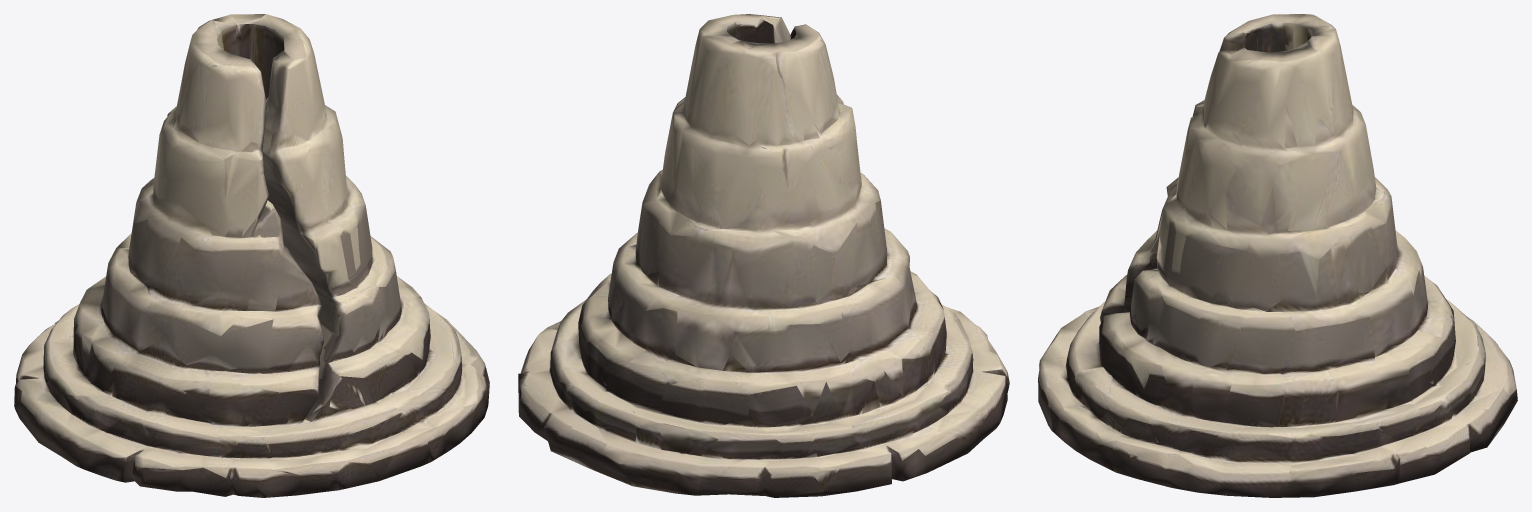
The model's file is repere-chaudron.glb.
3 renders of one model, left to right at view 1: azimuth 30°, elevation 25°; view 2: azimuth 150°, elevation 25°; view 3: azimuth 270°, elevation 25°, orthographic. The views are drawn at different scales.
Visible parts, largest first — view 1: repere-chaudron; view 2: repere-chaudron; view 3: repere-chaudron.
Part boxes in pixels (box(x1,y1,x2,y2)): repere-chaudron: box(14, 14, 489, 497); repere-chaudron: box(518, 14, 1009, 497); repere-chaudron: box(1038, 14, 1517, 497).
Bounding box in the file's own units: 1.9 × 1.61 × 1.9.
1 material, 1 textured.
